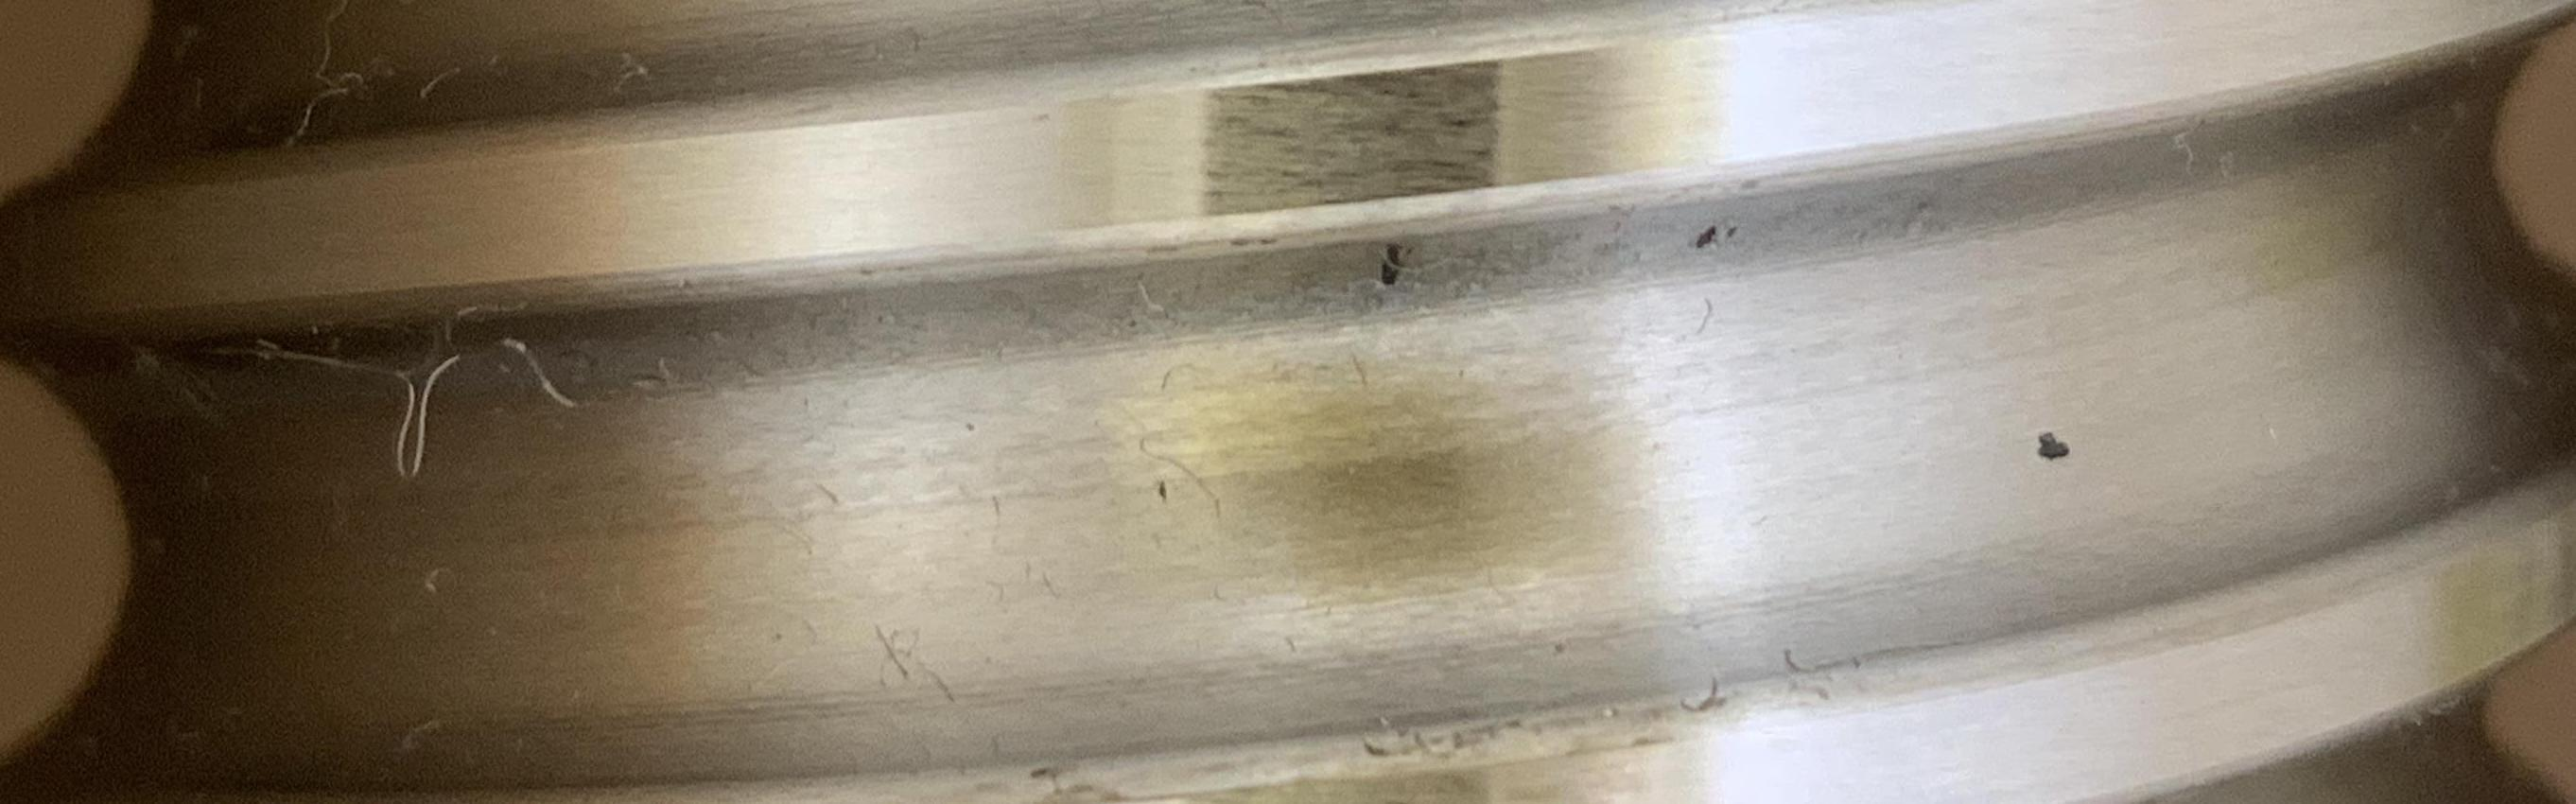pitting: (1380, 243, 1405, 284), (1694, 225, 1715, 247), (1727, 225, 1735, 237)
